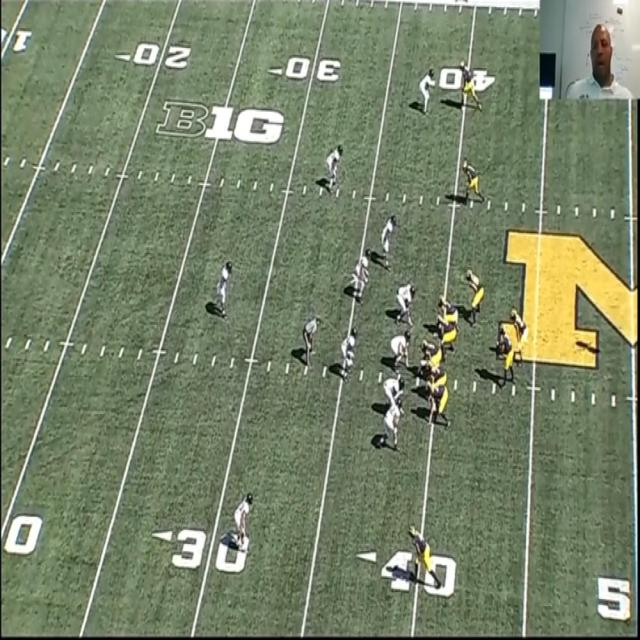center: (418, 341, 438, 373)
db: (233, 493, 254, 557), (325, 146, 341, 187), (220, 260, 232, 314), (420, 70, 432, 112)
lb: (338, 328, 357, 377), (350, 256, 369, 304), (380, 215, 396, 266), (385, 400, 401, 445), (575, 274, 583, 318)
qb: (500, 336, 516, 383)
skill: (411, 527, 436, 571), (466, 161, 485, 199), (469, 270, 482, 322), (511, 307, 525, 339)
